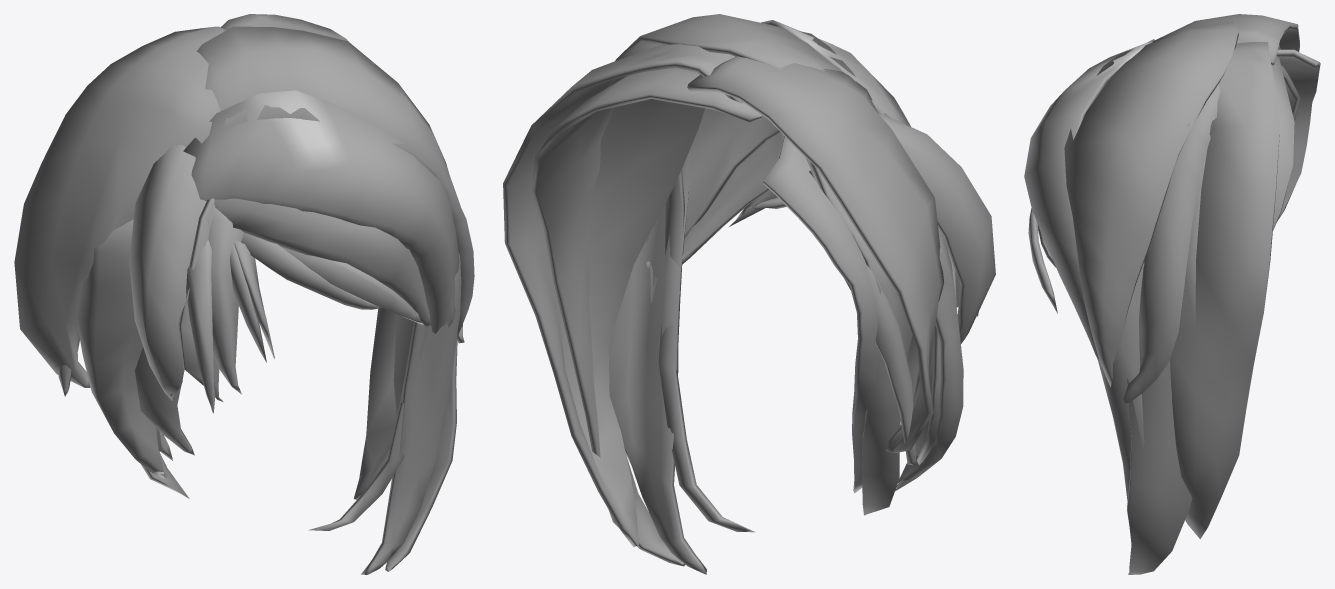
The model's file is HairFront1.fbx.
3 renders of one model, left to right at view 1: azimuth 30°, elevation 25°; view 2: azimuth 150°, elevation 25°; view 3: azimuth 270°, elevation 25°, orthographic. The views are drawn at different scales.
Parts seen in each view (by area): view 1: Hair_mesh; view 2: Hair_mesh; view 3: Hair_mesh.
Part boxes in pixels (x1,y1,x2,y2): Hair_mesh: (14,14,474,574); Hair_mesh: (503,14,995,574); Hair_mesh: (1024,14,1320,574).
Bounding box in the file's own units: 25.74 × 33.68 × 18.11.
3 materials, 3 textured.
